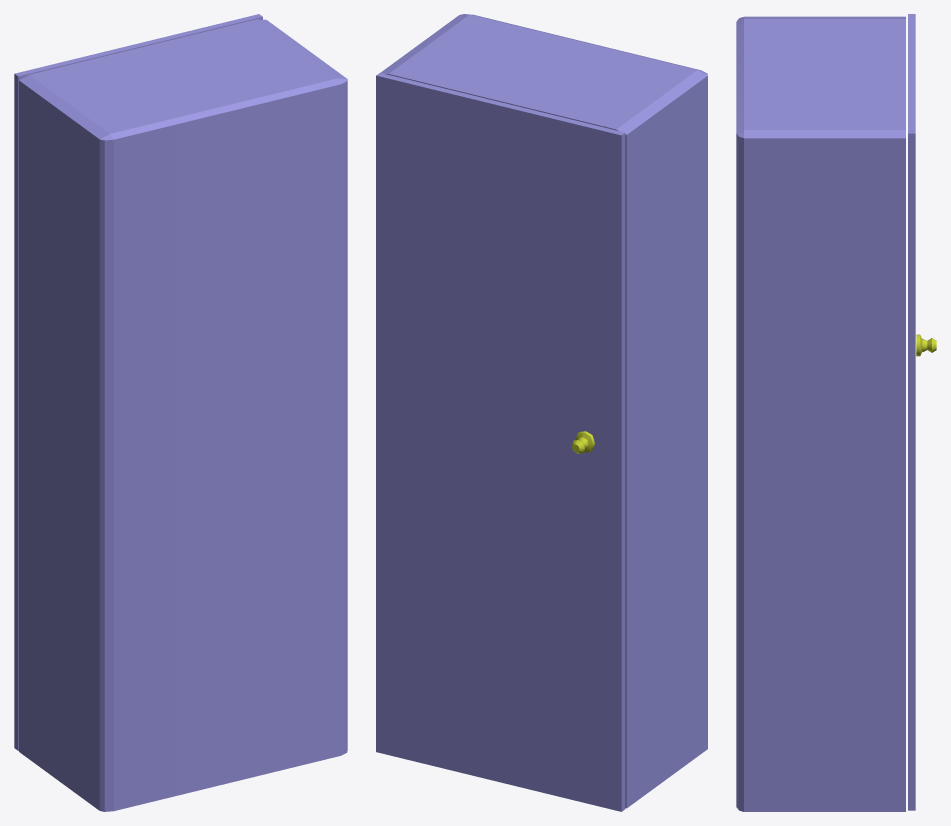
File: Prop_closet3.FBX
3 views of the same model, side by side, from view 1: azimuth 30°, elevation 25°; view 2: azimuth 150°, elevation 25°; view 3: azimuth 270°, elevation 25° (orthographic).
Visible parts, largest first — view 1: Prop_closet010, Prop_closet012; view 2: Prop_closet012, Prop_closet010; view 3: Prop_closet010, Prop_closet012.
Part boxes in pixels (x1,y1,x2,y2): Prop_closet010: [19, 19, 347, 811]; Prop_closet012: [14, 14, 262, 750]; Prop_closet012: [376, 73, 625, 811]; Prop_closet010: [380, 14, 707, 808]; Prop_closet010: [736, 16, 905, 811]; Prop_closet012: [908, 14, 915, 810].
Bounding box in the file's own units: 28.14 × 19.65 × 73.19.
